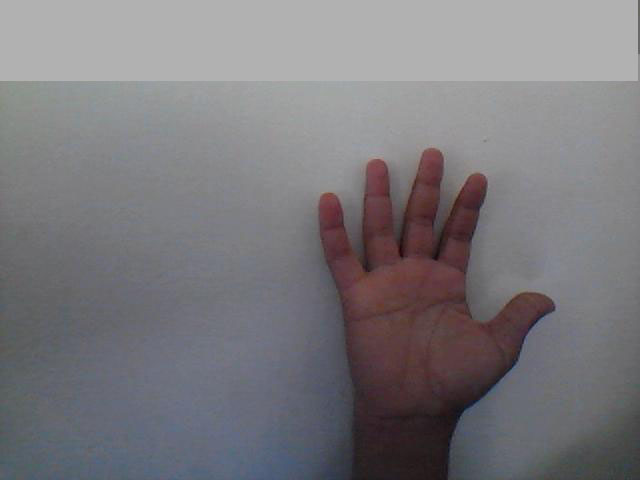hand: (303, 132, 573, 410)
